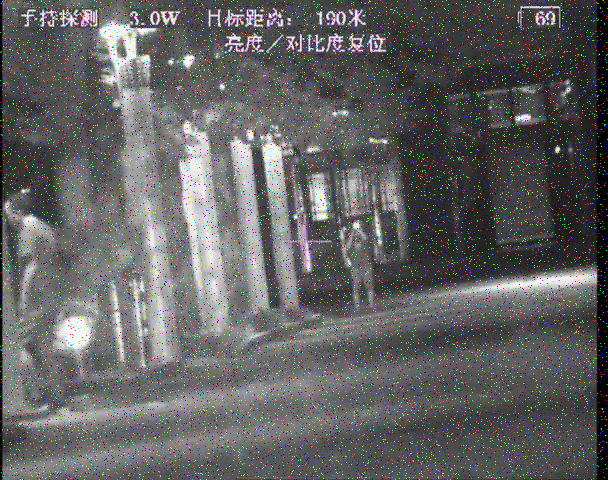my: (351, 219, 361, 230)
